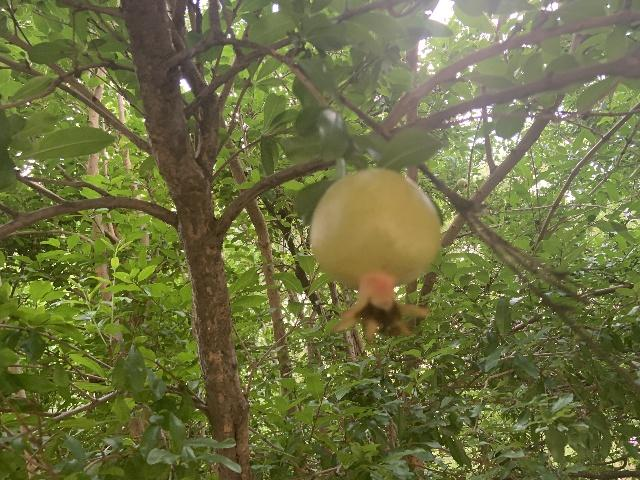mid-growth: (309, 168, 441, 343)
